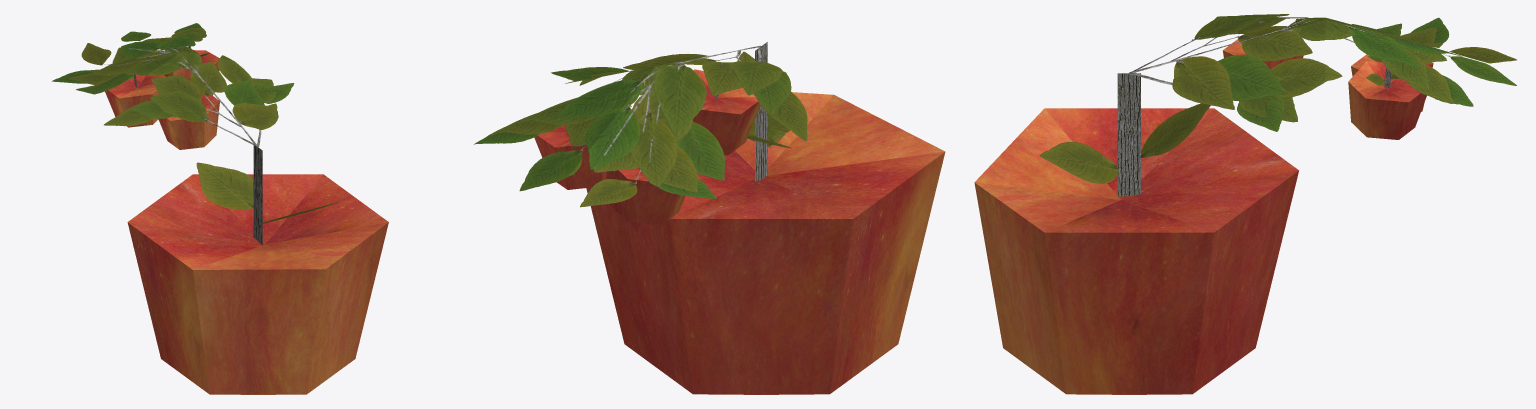
Rendered from Showcase.fbx.
3 views of the same model, side by side, from view 1: azimuth 30°, elevation 25°; view 2: azimuth 150°, elevation 25°; view 3: azimuth 270°, elevation 25° (orthographic). The views are drawn at different scales.
Parts seen in each view (by area): view 1: Apple, Branch, AppleBranch; view 2: Apple, Branch, AppleBranch; view 3: Apple, Branch, AppleBranch.
Part boxes in pixels (<box>): Apple: <box>127,145,388,394</box>; Branch: <box>52,23,294,125</box>; AppleBranch: <box>105,39,290,149</box>; Apple: <box>586,42,945,394</box>; Branch: <box>474,55,807,207</box>; AppleBranch: <box>534,45,807,225</box>; Apple: <box>974,73,1298,394</box>; Branch: <box>1260,14,1516,131</box>; AppleBranch: <box>1129,14,1433,139</box>.
Size of the model in its own units: 150 by 211 by 279.
